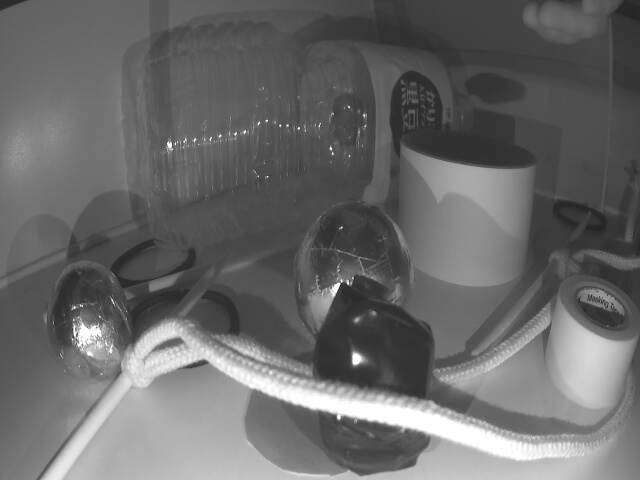Dead: (317, 298, 436, 472)
Live: (296, 206, 410, 336), (48, 265, 132, 375)
